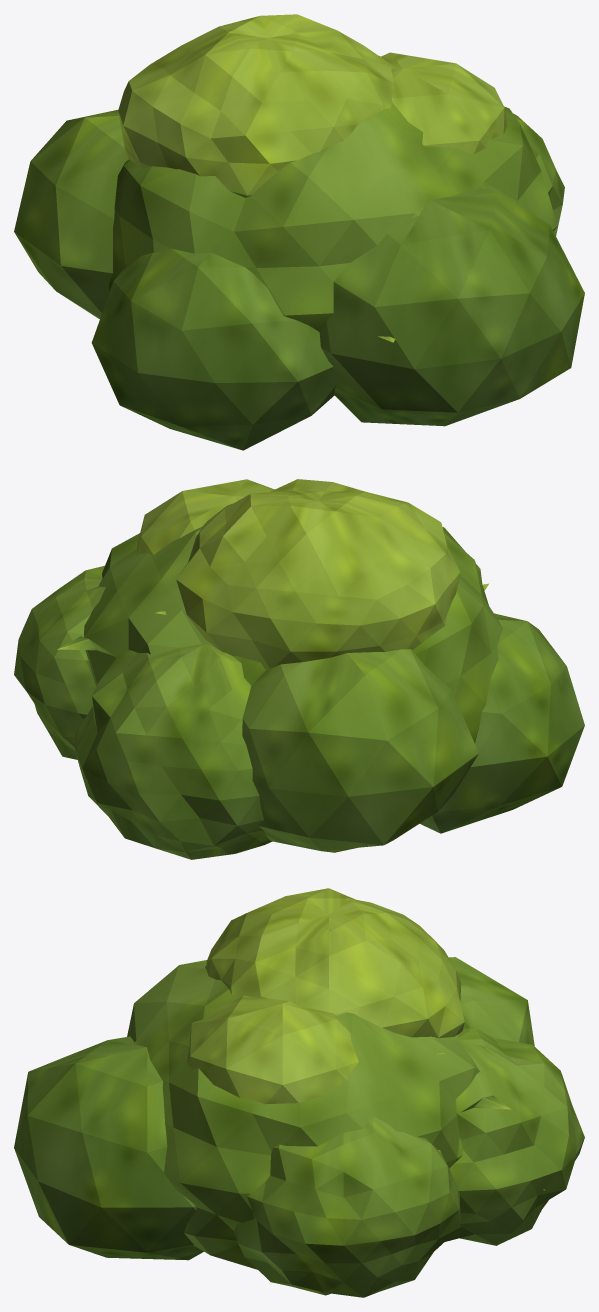
Rendered from buisson.glb.
3 renders of one model, top to bottom at view 1: azimuth 30°, elevation 25°; view 2: azimuth 150°, elevation 25°; view 3: azimuth 270°, elevation 25°, orthographic. The views are drawn at different scales.
Visible parts, largest first — view 1: buisson; view 2: buisson; view 3: buisson.
Boxes of the visible parts, box(x1,y1,x2,y2) form: buisson: box(14, 14, 584, 450); buisson: box(14, 479, 584, 859); buisson: box(14, 888, 584, 1297).
Size of the model in its own units: 1.52 by 0.9852 by 1.61.
Materials: 3 (3 with a texture image).
